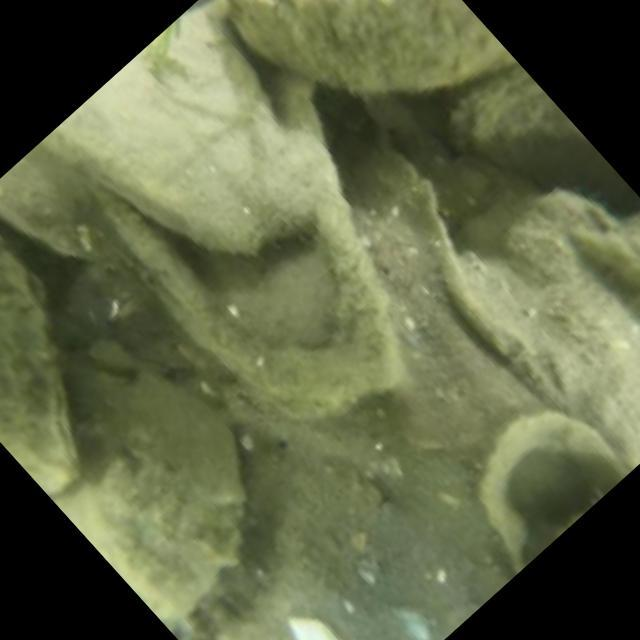Oyster- Indeterminate: (15, 336, 303, 625), (232, 0, 497, 93)
Oyster-Closed: (0, 238, 83, 503), (0, 138, 133, 293)
